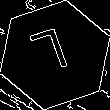L_S: (31, 26, 79, 84)
